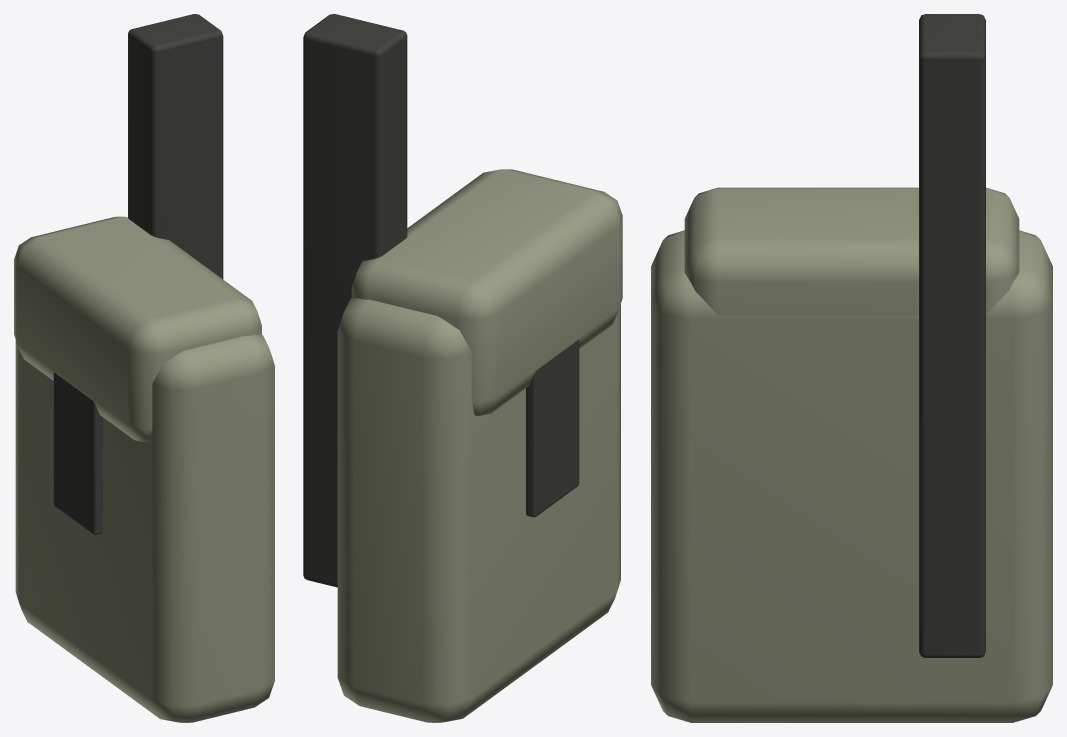
The model's file is hip_pouch_T.glb.
3 renders of one model, left to right at view 1: azimuth 30°, elevation 25°; view 2: azimuth 150°, elevation 25°; view 3: azimuth 270°, elevation 25°, orthographic. The views are drawn at different scales.
Visible parts, largest first — view 1: pouch@UpLeg.R; view 2: pouch@UpLeg.R; view 3: pouch@UpLeg.R.
Part boxes in pixels (x1=…): pouch@UpLeg.R: x1=14, y1=14, x2=274, y2=722; pouch@UpLeg.R: x1=303, y1=14, x2=622, y2=722; pouch@UpLeg.R: x1=651, y1=14, x2=1052, y2=722.
Size of the model in its own units: 0.0755 by 0.235 by 0.12.
